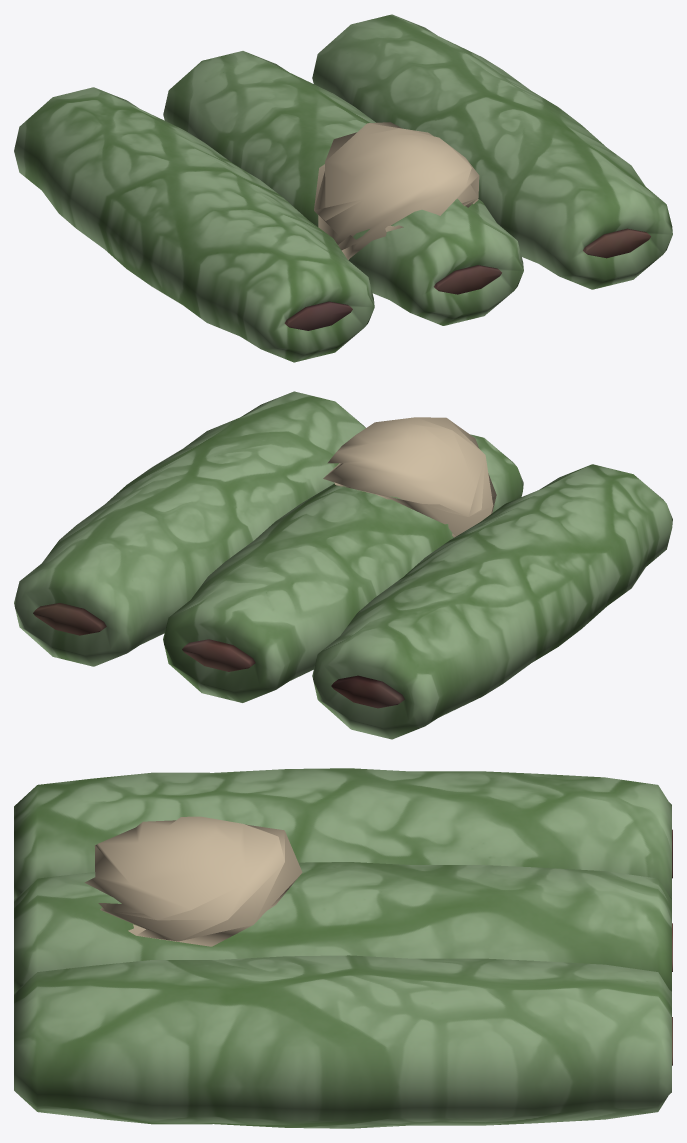
Rendered from repolloFull.glb.
3 views of the same model, one above another, from view 1: azimuth 30°, elevation 25°; view 2: azimuth 150°, elevation 25°; view 3: azimuth 270°, elevation 25° (orthographic). The views are drawn at different scales.
Visible parts, largest first — view 1: polySurface28; view 2: polySurface28; view 3: polySurface28.
Part boxes in pixels (x1=…): polySurface28: x1=14, y1=14, x2=672, y2=362; polySurface28: x1=14, y1=391, x2=672, y2=739; polySurface28: x1=14, y1=768, x2=672, y2=1128.
Size of the model in its own units: 1.23 by 0.3876 by 1.23.
Materials: 2 (2 with a texture image).
